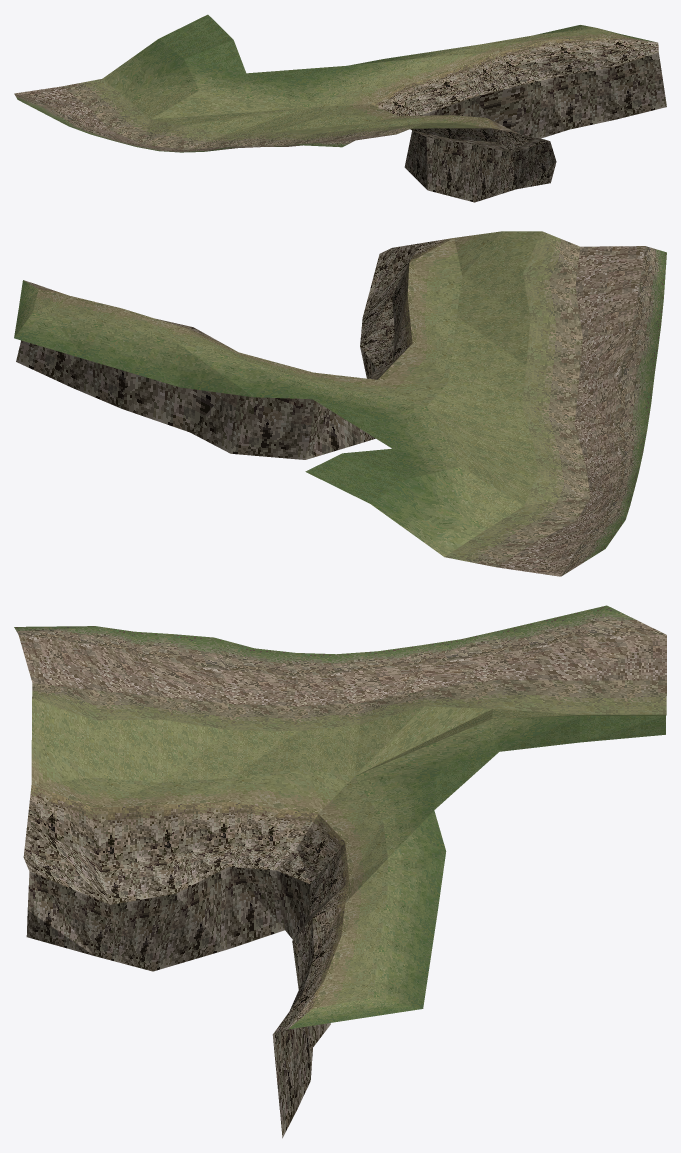
Rendered from lodcehollyhil17.obj.
The picture shows the model from 3 angles, top to bottom: view 1: azimuth 30°, elevation 25°; view 2: azimuth 150°, elevation 25°; view 3: azimuth 270°, elevation 25°; orthographic projection. The views are drawn at different scales.
Parts seen in each view (by area): view 1: LODCEhollyhil17; view 2: LODCEhollyhil17; view 3: LODCEhollyhil17.
Part boxes in pixels (x1=…): LODCEhollyhil17: x1=14, y1=14, x2=666, y2=202; LODCEhollyhil17: x1=14, y1=231, x2=666, y2=576; LODCEhollyhil17: x1=14, y1=605, x2=666, y2=1138.
Size of the model in its own units: 423 by 102 by 274.
Materials: 9 (9 with a texture image).
